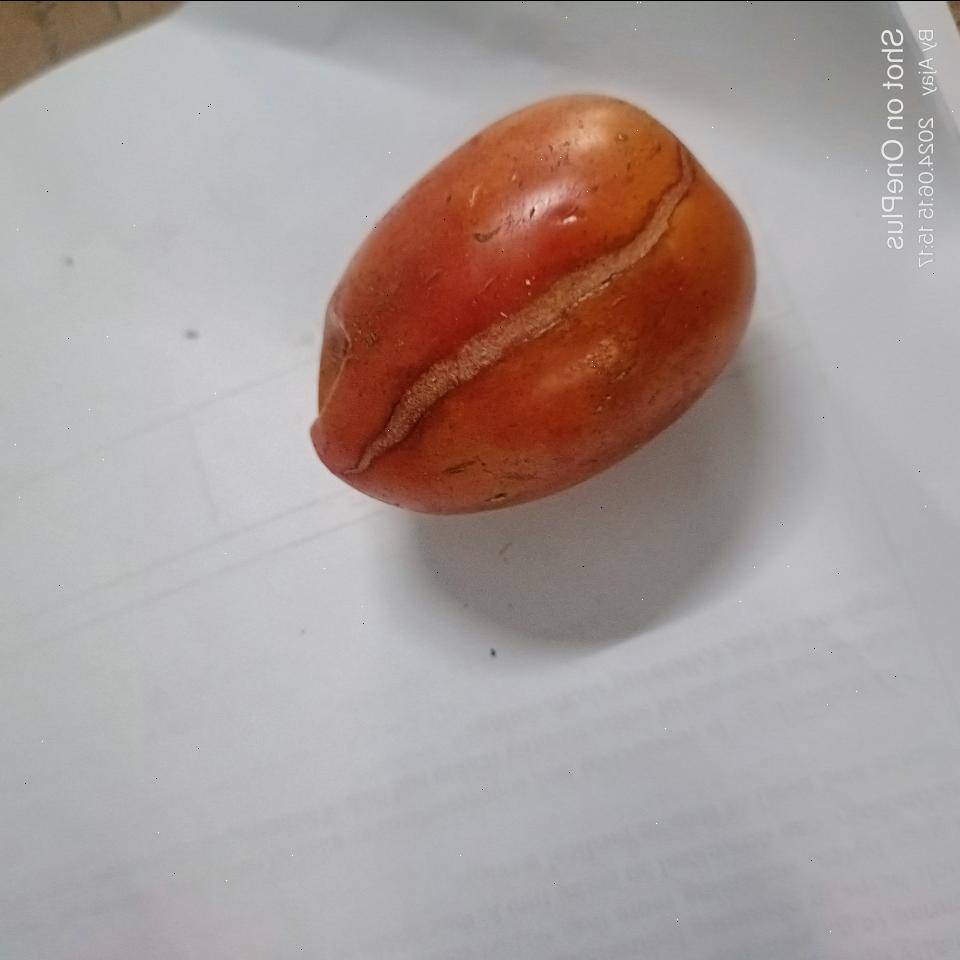Cracking: (348, 152, 690, 459)
